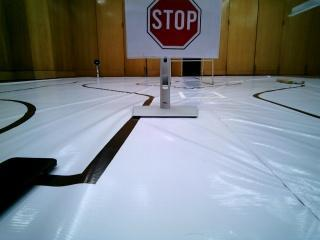stop: (131, 0, 209, 54)
